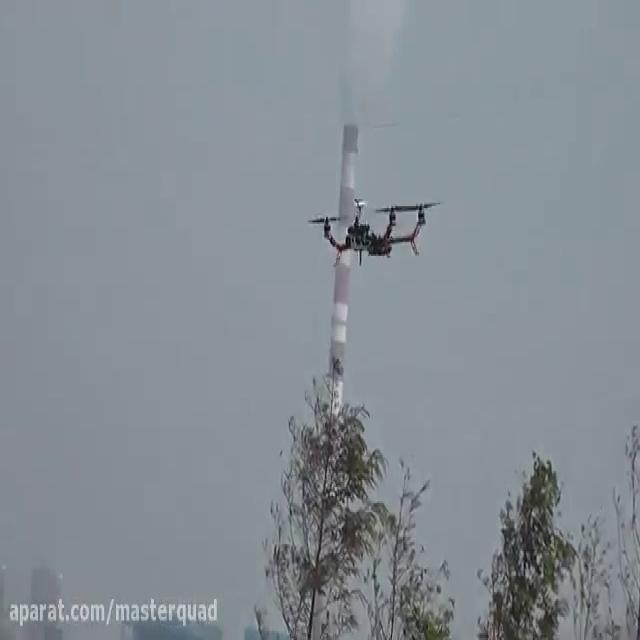drone: (304, 190, 446, 272)
